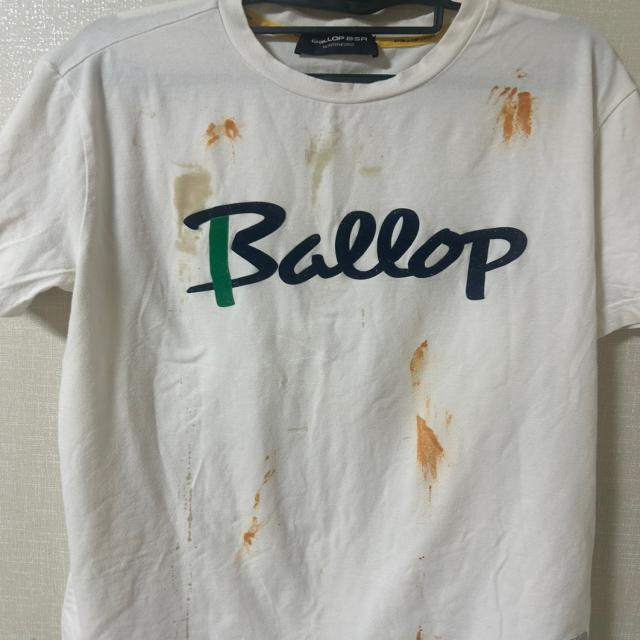stain: (410, 401, 468, 499), (238, 462, 286, 551), (488, 70, 541, 148), (176, 448, 207, 552), (174, 162, 207, 258), (303, 135, 341, 204), (404, 337, 442, 387), (204, 117, 242, 150), (183, 577, 198, 640), (362, 158, 383, 183), (407, 627, 439, 640), (416, 552, 429, 568)
